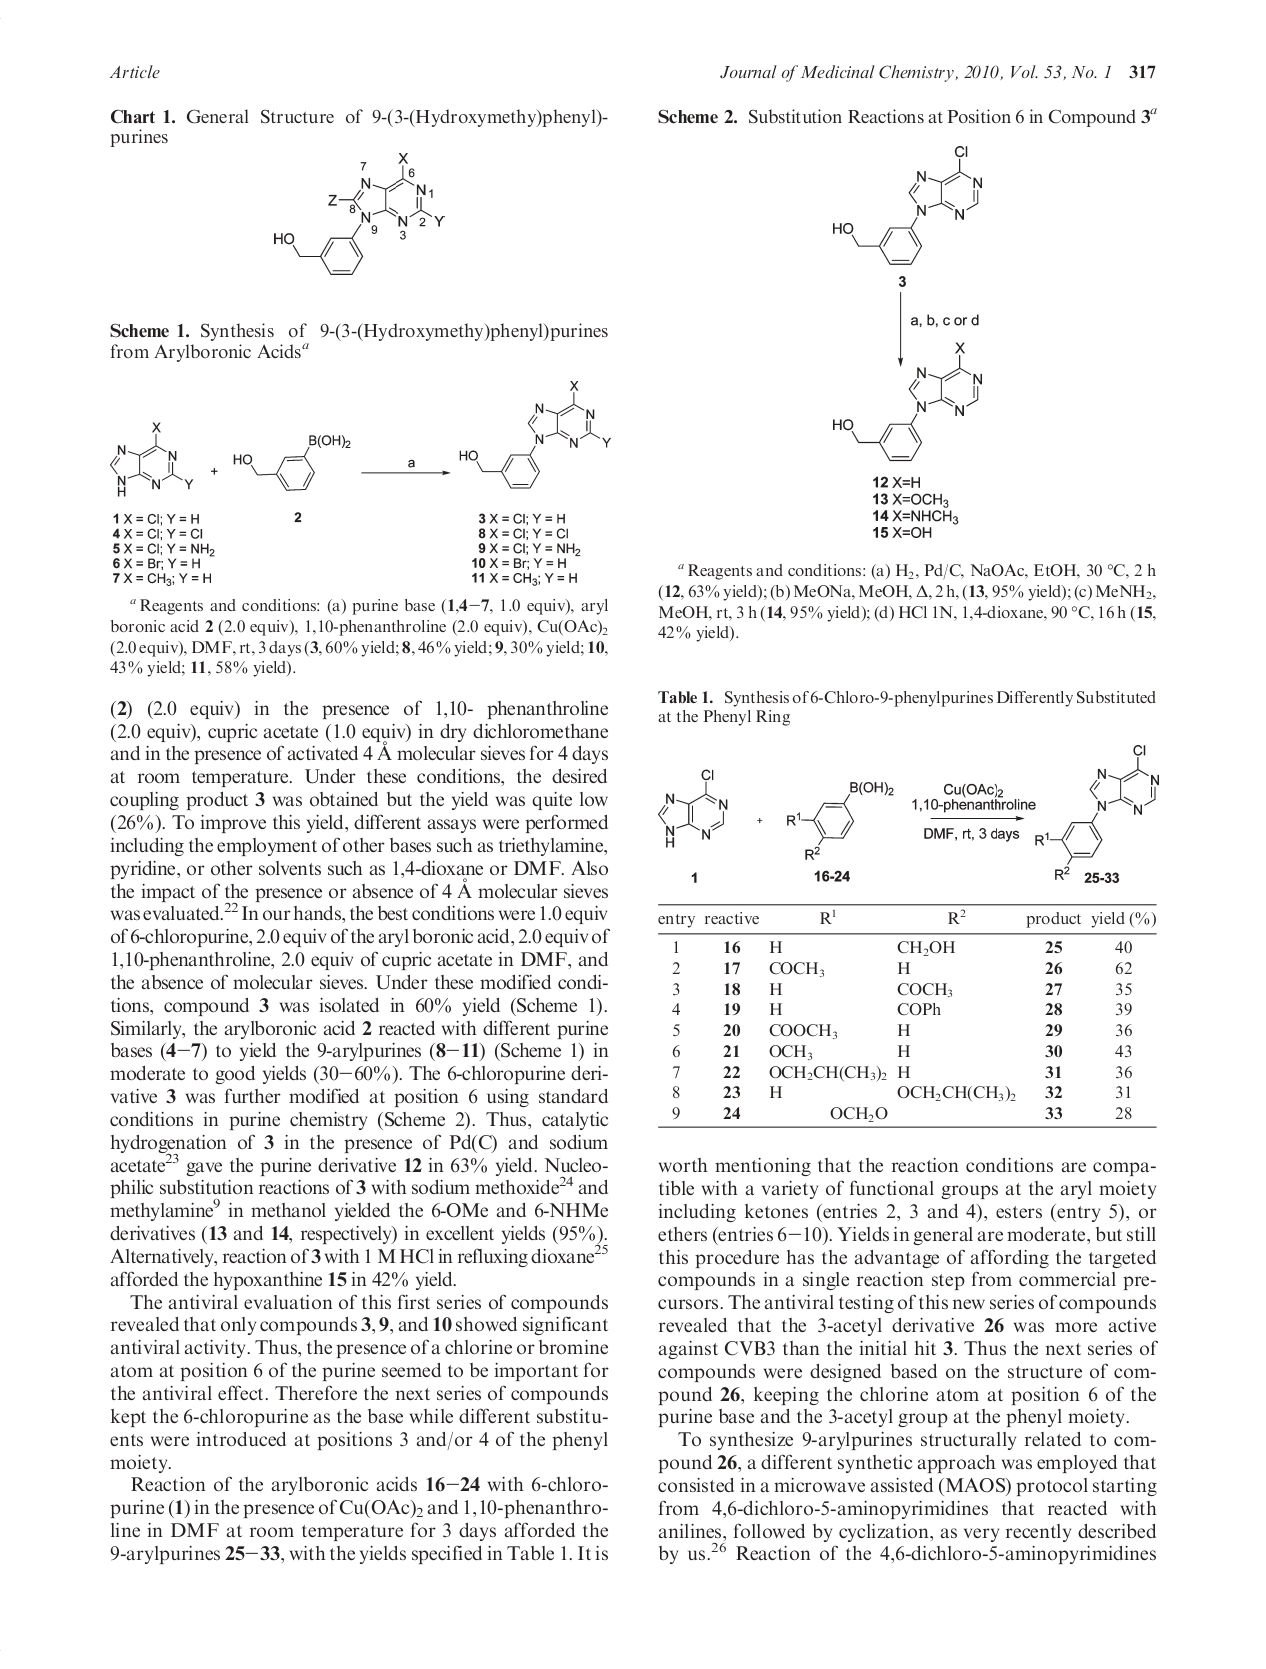exist_molecular: (273, 152, 445, 279), (831, 142, 984, 269), (830, 339, 985, 463), (457, 379, 614, 491), (1033, 743, 1161, 880), (786, 777, 895, 862), (231, 432, 352, 493), (109, 418, 195, 499), (657, 766, 727, 848)
